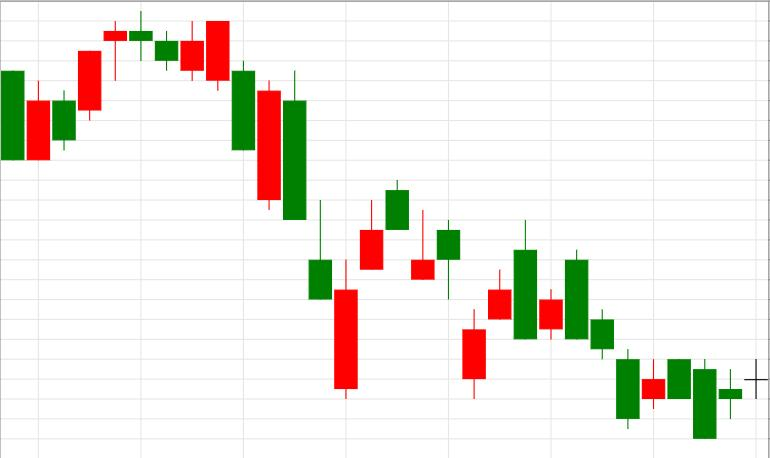bearish_engulfing_fall: (463, 219, 537, 400)
inverse_hammer_rise: (232, 61, 332, 299)
